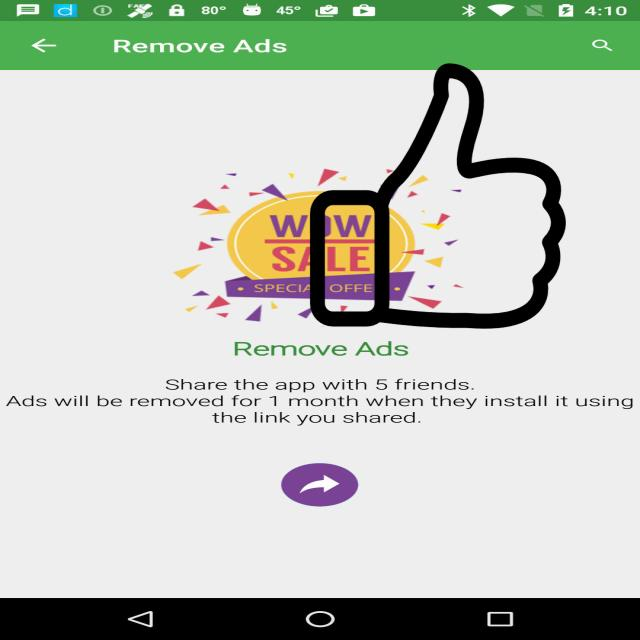privacy zuckering: (306, 63, 570, 329)
